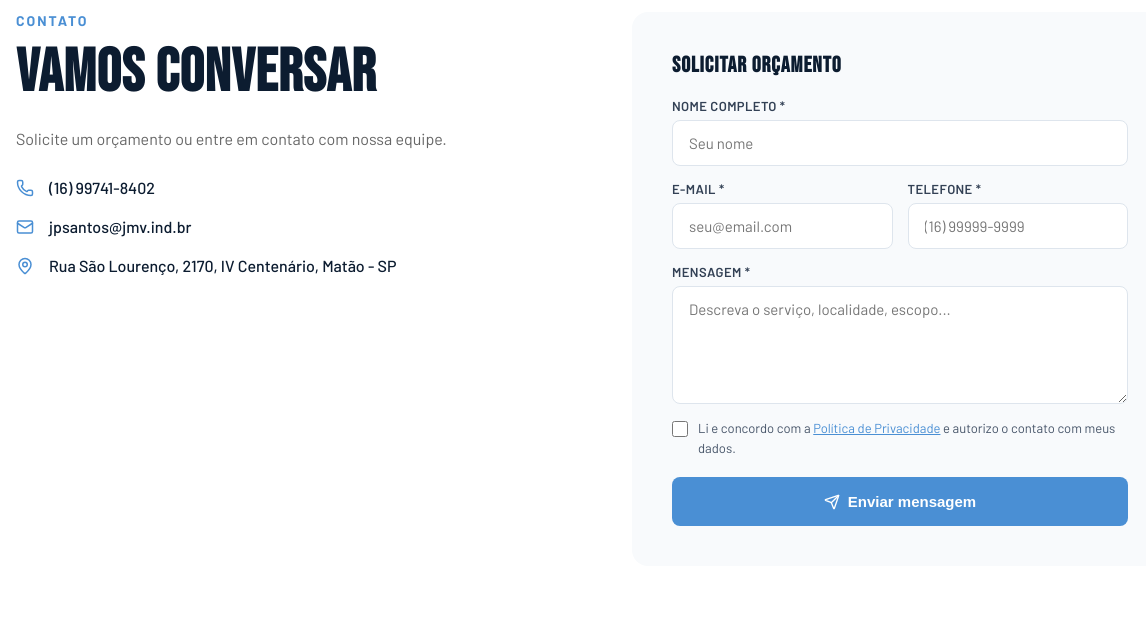
Scenario: Contact — validação › exibe erros ao submeter formulário vazio
The image size is (1146, 624).
Click the button "Enviar mensagem". click: (900, 502)
box: [672,477,1128,526]
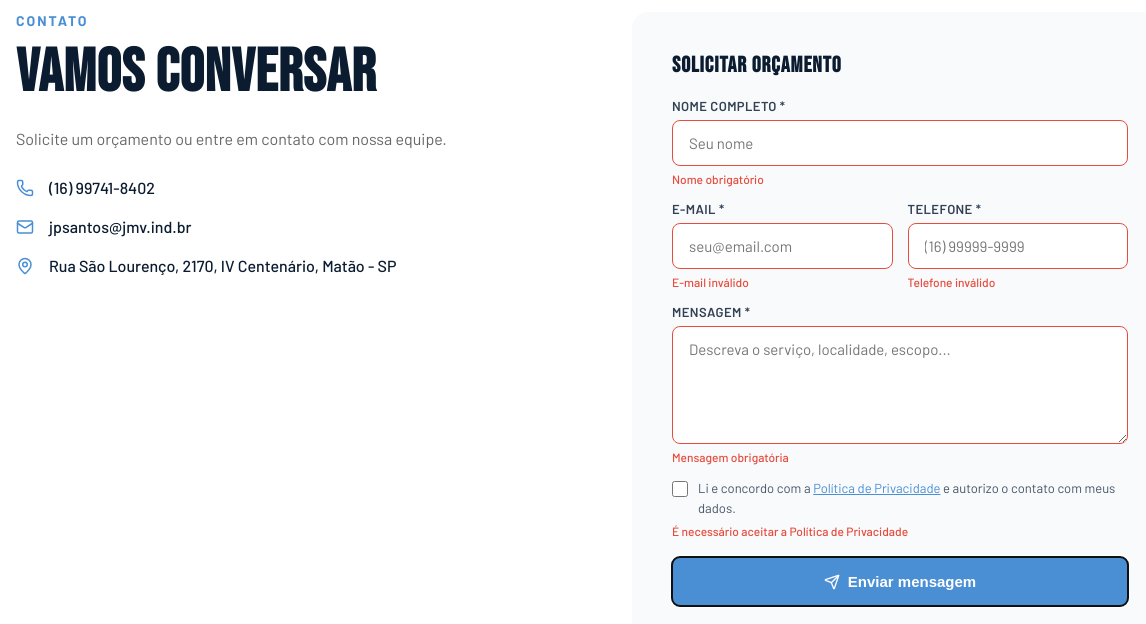
Expected: the text "Nome obrigatório" is shown, [672,172,764,186]
Expected: the text "E-mail inválido" is shown, [672,275,749,289]
Expected: the text "Mensagem obrigatória" is shown, [672,450,789,464]
